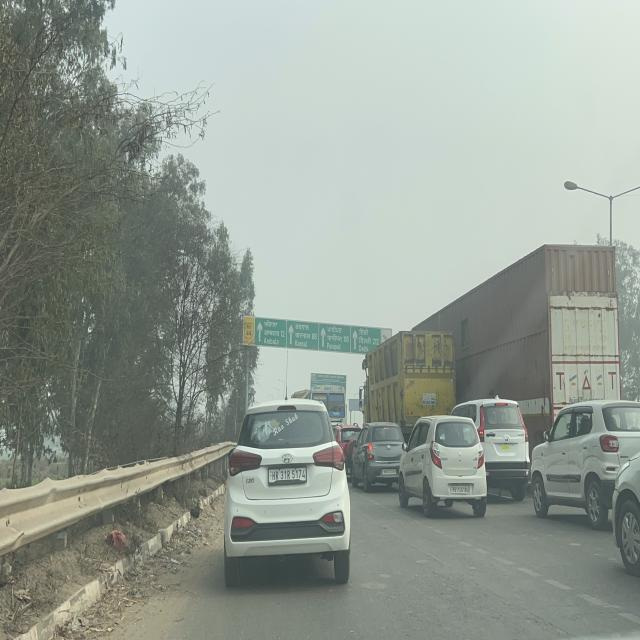GENERAL: (242, 315, 380, 353)
